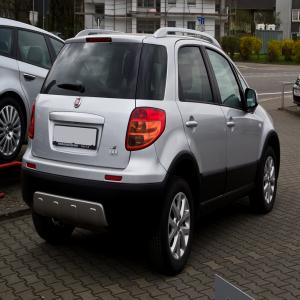Vehicle-registration-plate: (53, 125, 98, 152), (294, 90, 300, 97)
